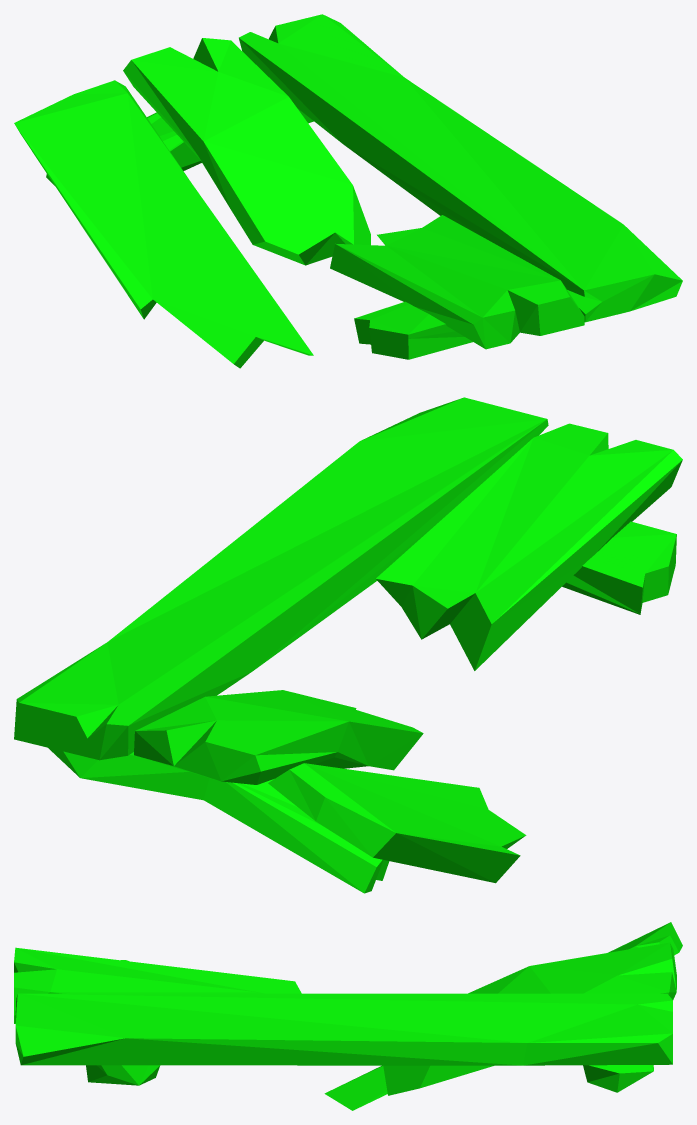
The model's file is SM_Palisade_Gallery_Broken_End_B.fbx.
The picture shows the model from 3 angles, top to bottom: view 1: azimuth 30°, elevation 25°; view 2: azimuth 150°, elevation 25°; view 3: azimuth 270°, elevation 25°; orthographic projection. The views are drawn at different scales.
Parts seen in each view (by area): view 1: palisade-gallery-broken-end-b; view 2: palisade-gallery-broken-end-b; view 3: palisade-gallery-broken-end-b.
Boxes of the visible parts, x1,y1,x2,y2 form: palisade-gallery-broken-end-b: [14, 14, 682, 368]; palisade-gallery-broken-end-b: [14, 397, 682, 893]; palisade-gallery-broken-end-b: [14, 922, 682, 1110].
Size of the model in its own units: 1.05 by 0.5754 by 2.
